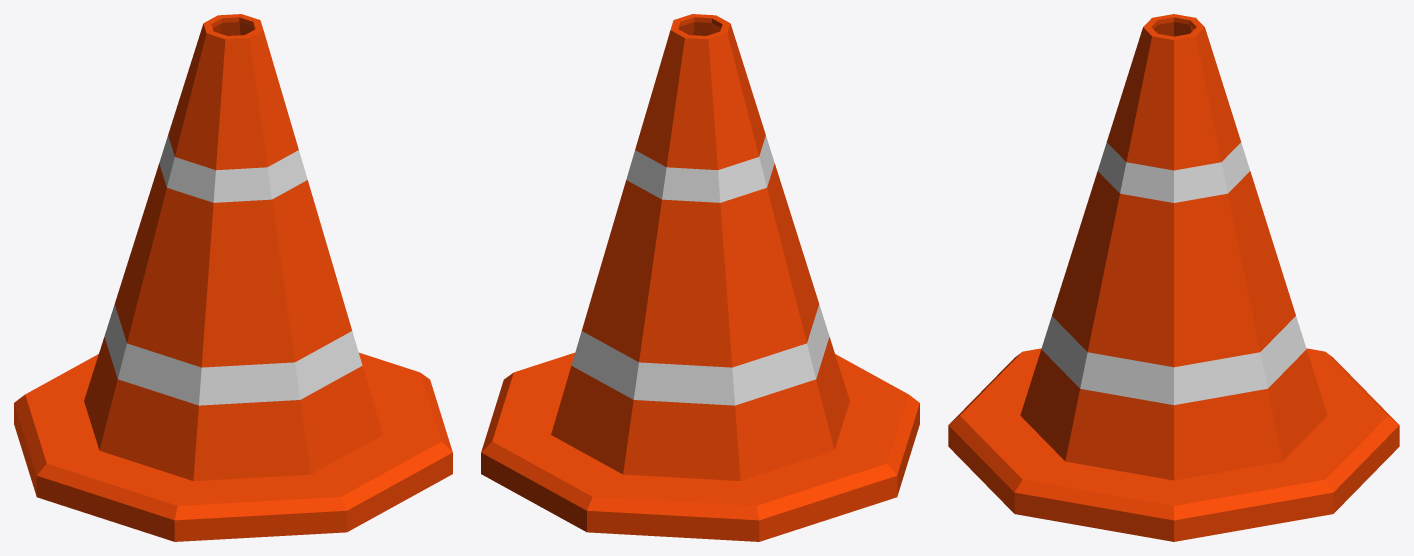
Rendered from pylon.glb.
3 views of the same model, side by side, from view 1: azimuth 30°, elevation 25°; view 2: azimuth 150°, elevation 25°; view 3: azimuth 270°, elevation 25° (orthographic).
Visible parts, largest first — view 1: Circle_3; view 2: Circle_3; view 3: Circle_3.
Boxes of the visible parts, x1,y1,x2,y2 form: Circle_3: [14, 14, 452, 541]; Circle_3: [481, 14, 919, 541]; Circle_3: [948, 14, 1399, 541].
Size of the model in its own units: 2.73 by 2.8 by 2.73.
Materials: 1 (1 with a texture image).
